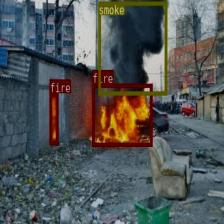fire: (92, 83, 152, 146), (49, 92, 58, 144)
smoke: (98, 1, 167, 95)
